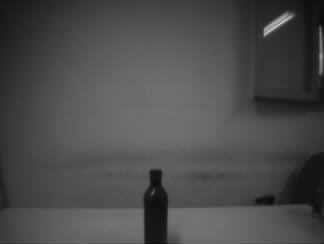Bottle: (144, 168, 168, 244)
